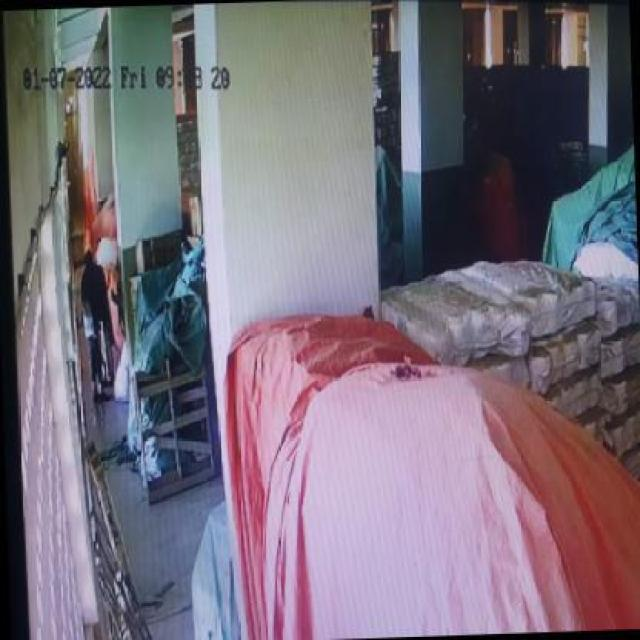fire: (94, 235, 120, 274)
